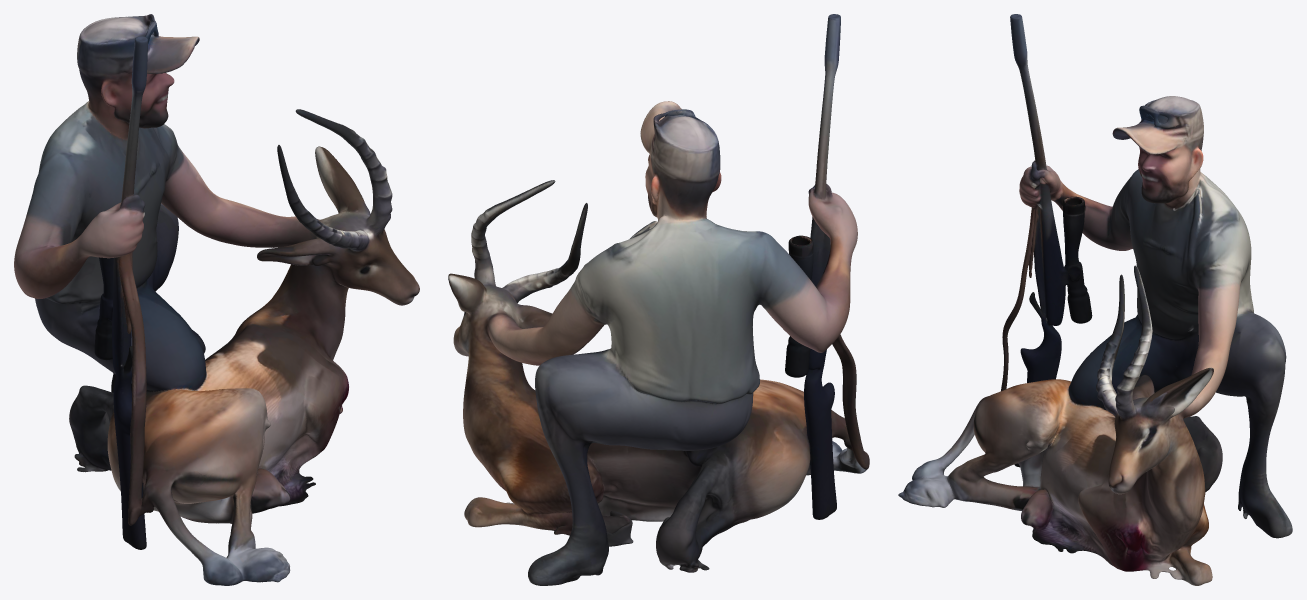
The picture shows the model from 3 angles, left to right: view 1: azimuth 30°, elevation 25°; view 2: azimuth 150°, elevation 25°; view 3: azimuth 270°, elevation 25°; orthographic projection. The views are drawn at different scales.
Parts seen in each view (by area): view 1: tripo_node_996f023f-ff9a-4a55-b0e4-4aceee01a60b; view 2: tripo_node_996f023f-ff9a-4a55-b0e4-4aceee01a60b; view 3: tripo_node_996f023f-ff9a-4a55-b0e4-4aceee01a60b.
Boxes of the visible parts, x1,y1,x2,y2 form: tripo_node_996f023f-ff9a-4a55-b0e4-4aceee01a60b: (14,14,419,585); tripo_node_996f023f-ff9a-4a55-b0e4-4aceee01a60b: (448,14,869,585); tripo_node_996f023f-ff9a-4a55-b0e4-4aceee01a60b: (898,14,1292,585).
Bounding box in the file's own units: 0.8065 × 1 × 0.7917.
1 material, 1 textured.
